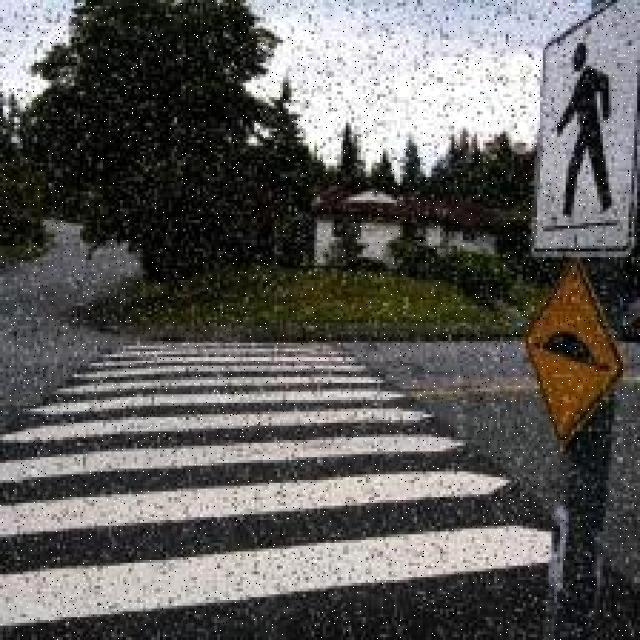crosswalk: (0, 328, 579, 639)
